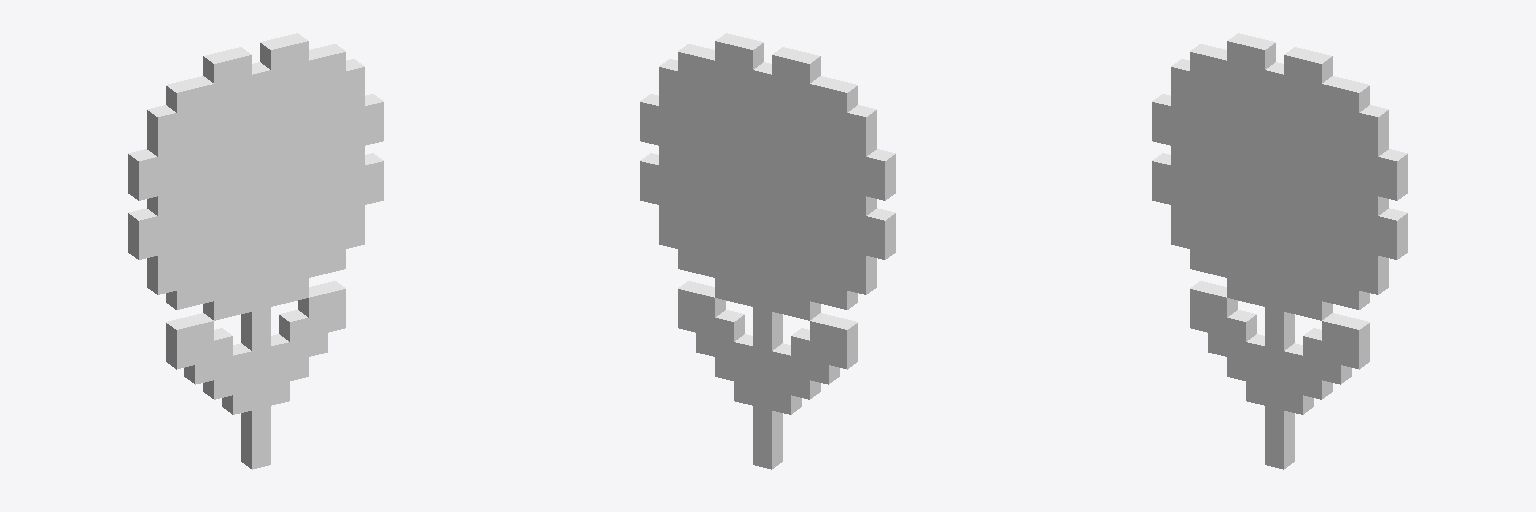
File: Plant2Sunflower.obj
3 renders of one model, left to right at view 1: azimuth 30°, elevation 25°; view 2: azimuth 150°, elevation 25°; view 3: azimuth 330°, elevation 25°, orthographic.
Visible parts, largest first — view 1: object 1; view 2: object 1; view 3: object 1.
Part boxes in pixels (bbox=[...]): object 1: bbox=[128, 33, 383, 469]; object 1: bbox=[640, 33, 895, 469]; object 1: bbox=[1152, 33, 1407, 469].
Bounding box in the file's own units: 1.3 × 2.1 × 0.1.